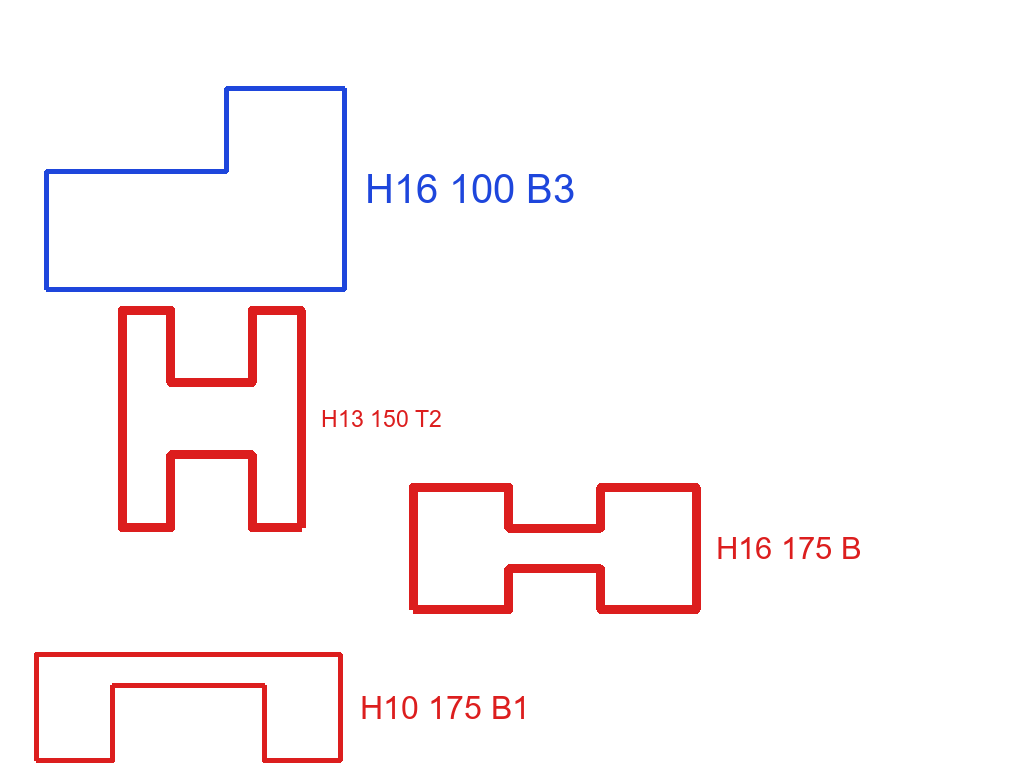shape: (42, 84, 349, 294), (116, 304, 308, 534), (407, 481, 703, 616), (32, 650, 345, 765)
text: (363, 172, 577, 205), (358, 694, 532, 721), (714, 535, 864, 561), (319, 408, 444, 429)
